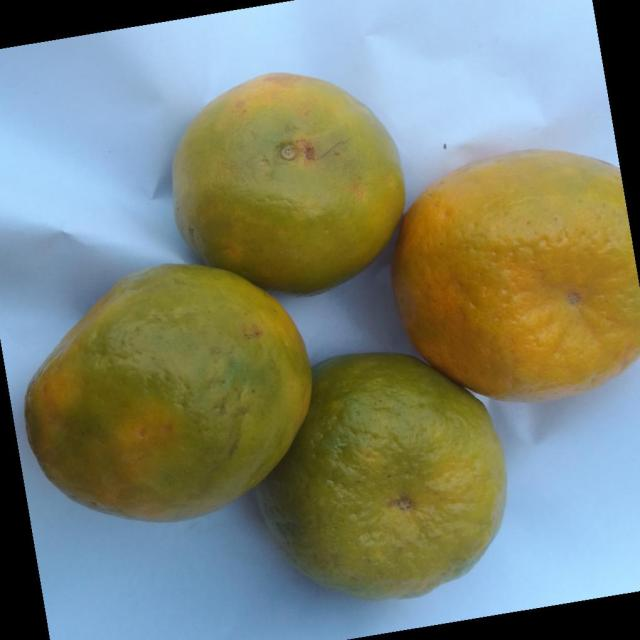fresh orange: (23, 262, 313, 522), (253, 350, 507, 601), (391, 147, 639, 402), (171, 70, 405, 296)
